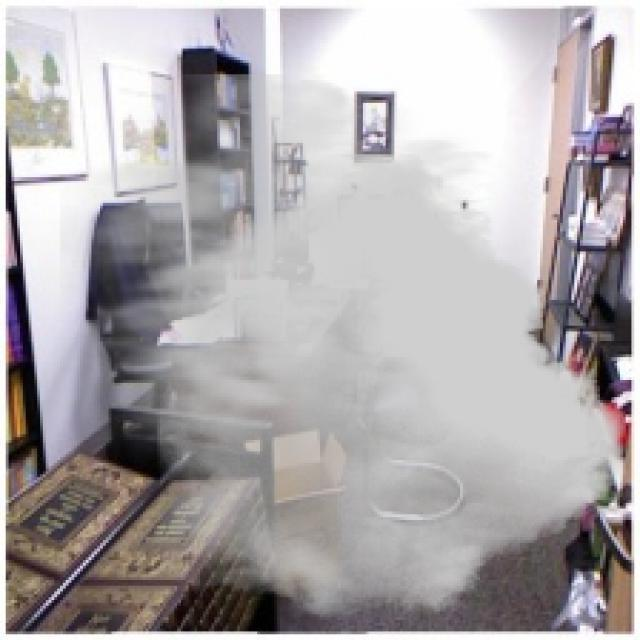Smoke: (60, 74, 626, 620)
